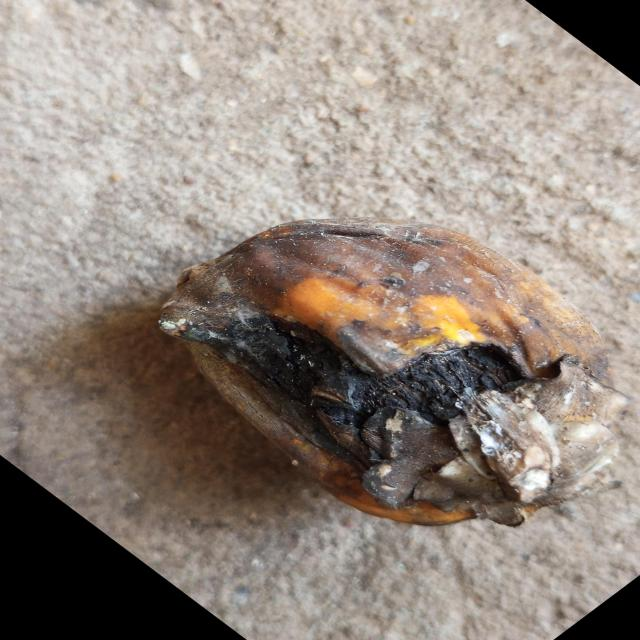damaged: (159, 221, 627, 526)
